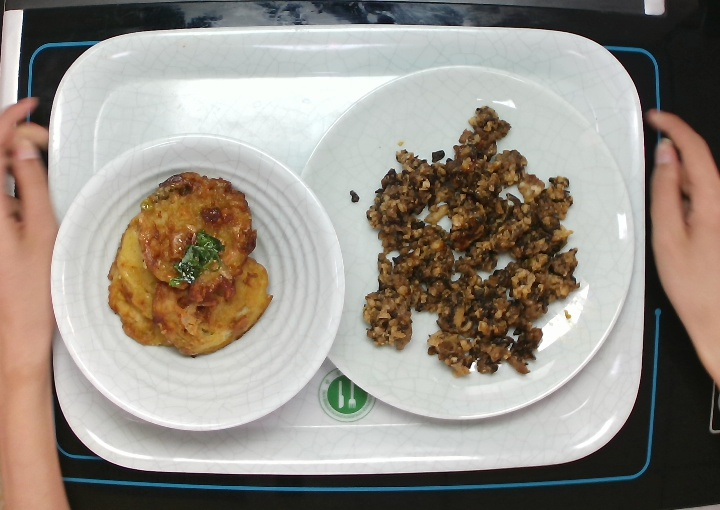JYsf-Da_Yuan_Pan: (294, 62, 638, 423)
JYsf-Xiao_Tang_Wan: (49, 127, 346, 436)
